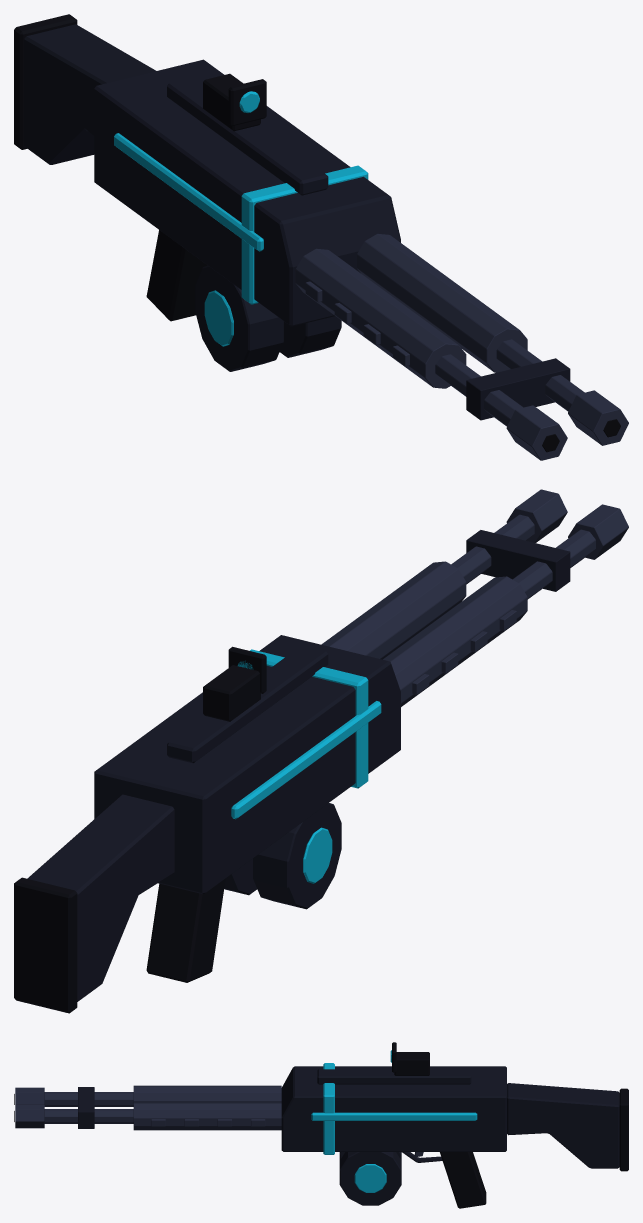
Rendered from myw_twinmachinegun.obj.
3 views of the same model, one above another, from view 1: azimuth 30°, elevation 25°; view 2: azimuth 150°, elevation 25°; view 3: azimuth 270°, elevation 25° (orthographic). The views are drawn at different scales.
Parts seen in each view (by area): view 1: Body, Barrels, Drums, Sight; view 2: Body, Barrels, Drums, Sight; view 3: Body, Barrels, Drums, Sight.
Boxes of the visible parts, bbox=[...] form: Body: bbox=[14, 14, 400, 326]; Barrels: bbox=[295, 234, 628, 460]; Drums: bbox=[195, 265, 341, 371]; Sight: bbox=[203, 73, 266, 131]; Body: bbox=[14, 635, 400, 1013]; Barrels: bbox=[321, 489, 628, 706]; Drums: bbox=[224, 803, 341, 909]; Sight: bbox=[203, 646, 266, 721]; Body: bbox=[281, 1063, 628, 1208]; Barrels: bbox=[14, 1085, 281, 1130]; Drums: bbox=[339, 1152, 401, 1205]; Sight: bbox=[390, 1042, 429, 1075].
Bounding box in the file's own units: 0.69 × 1.46 × 5.19.
